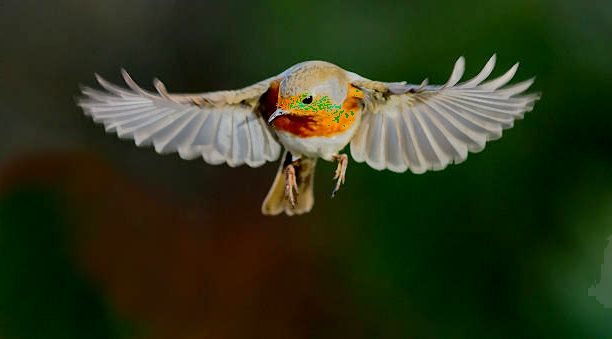Bird: (74, 52, 541, 225)
